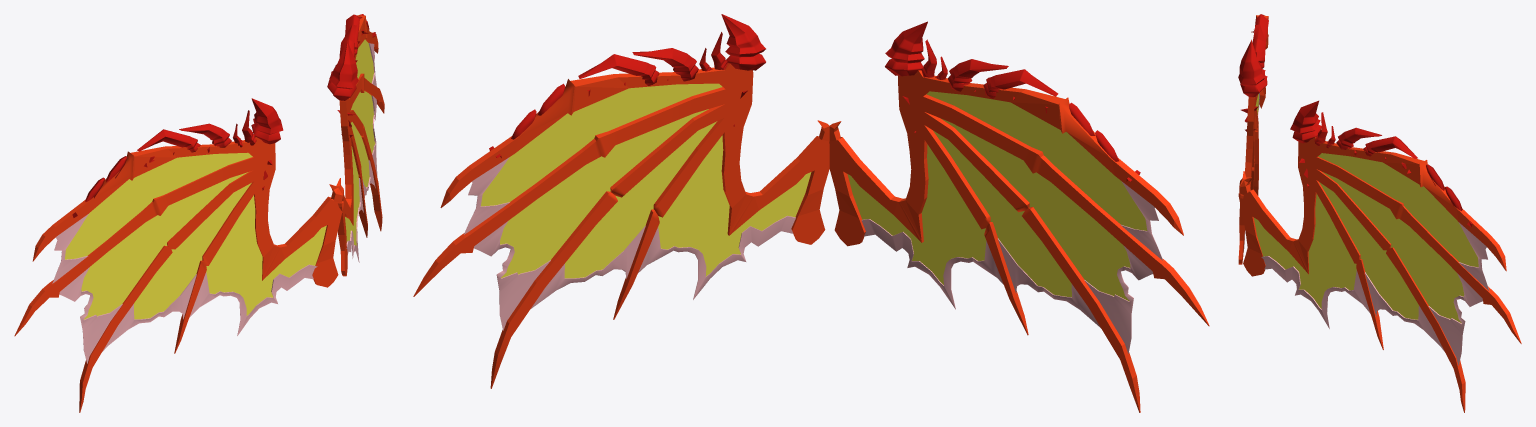
3 renders of one model, left to right at view 1: azimuth 30°, elevation 25°; view 2: azimuth 150°, elevation 25°; view 3: azimuth 270°, elevation 25°, orthographic. The views are drawn at different scales.
Parts seen in each view (by area): view 1: Plane_021, Plane_019, Plane_020, Cube_005, Cube_008, Cube_007; view 2: Plane_021, Plane_019, Plane_020, Cube_005, Cube_008, Cube_007; view 3: Plane_021, Plane_019, Plane_020, Cube_005, Cube_007, Cube_008.
Part boxes in pixels (x1,y1,x2,y2): Plane_021: (65, 39, 375, 319); Plane_019: (14, 15, 384, 412); Plane_020: (52, 43, 377, 363); Cube_005: (251, 40, 358, 144); Cube_008: (137, 14, 362, 152); Cube_007: (179, 24, 356, 147); Plane_021: (481, 83, 1147, 301); Plane_019: (413, 63, 1209, 412); Plane_020: (464, 157, 1162, 353); Cube_005: (721, 14, 927, 76); Cube_008: (578, 54, 1058, 98); Cube_007: (632, 48, 1008, 91); Plane_021: (1253, 94, 1478, 323); Plane_019: (1238, 15, 1521, 412); Plane_020: (1243, 93, 1489, 365); Cube_005: (1238, 39, 1321, 143); Cube_007: (1252, 24, 1381, 149); Cube_008: (1254, 15, 1417, 158).
Size of the model in its own units: 298 by 151 by 154.
